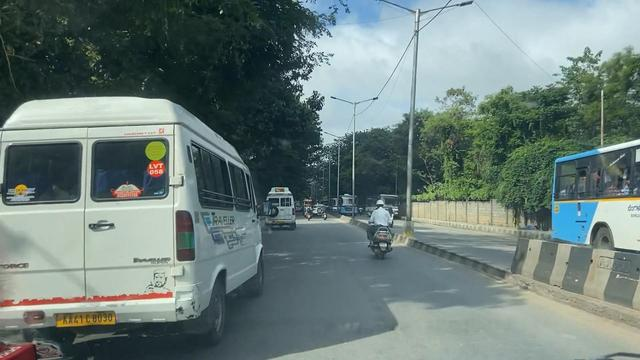HMV: (8, 104, 265, 336), (266, 183, 299, 229)
LMV: (362, 197, 399, 257)
